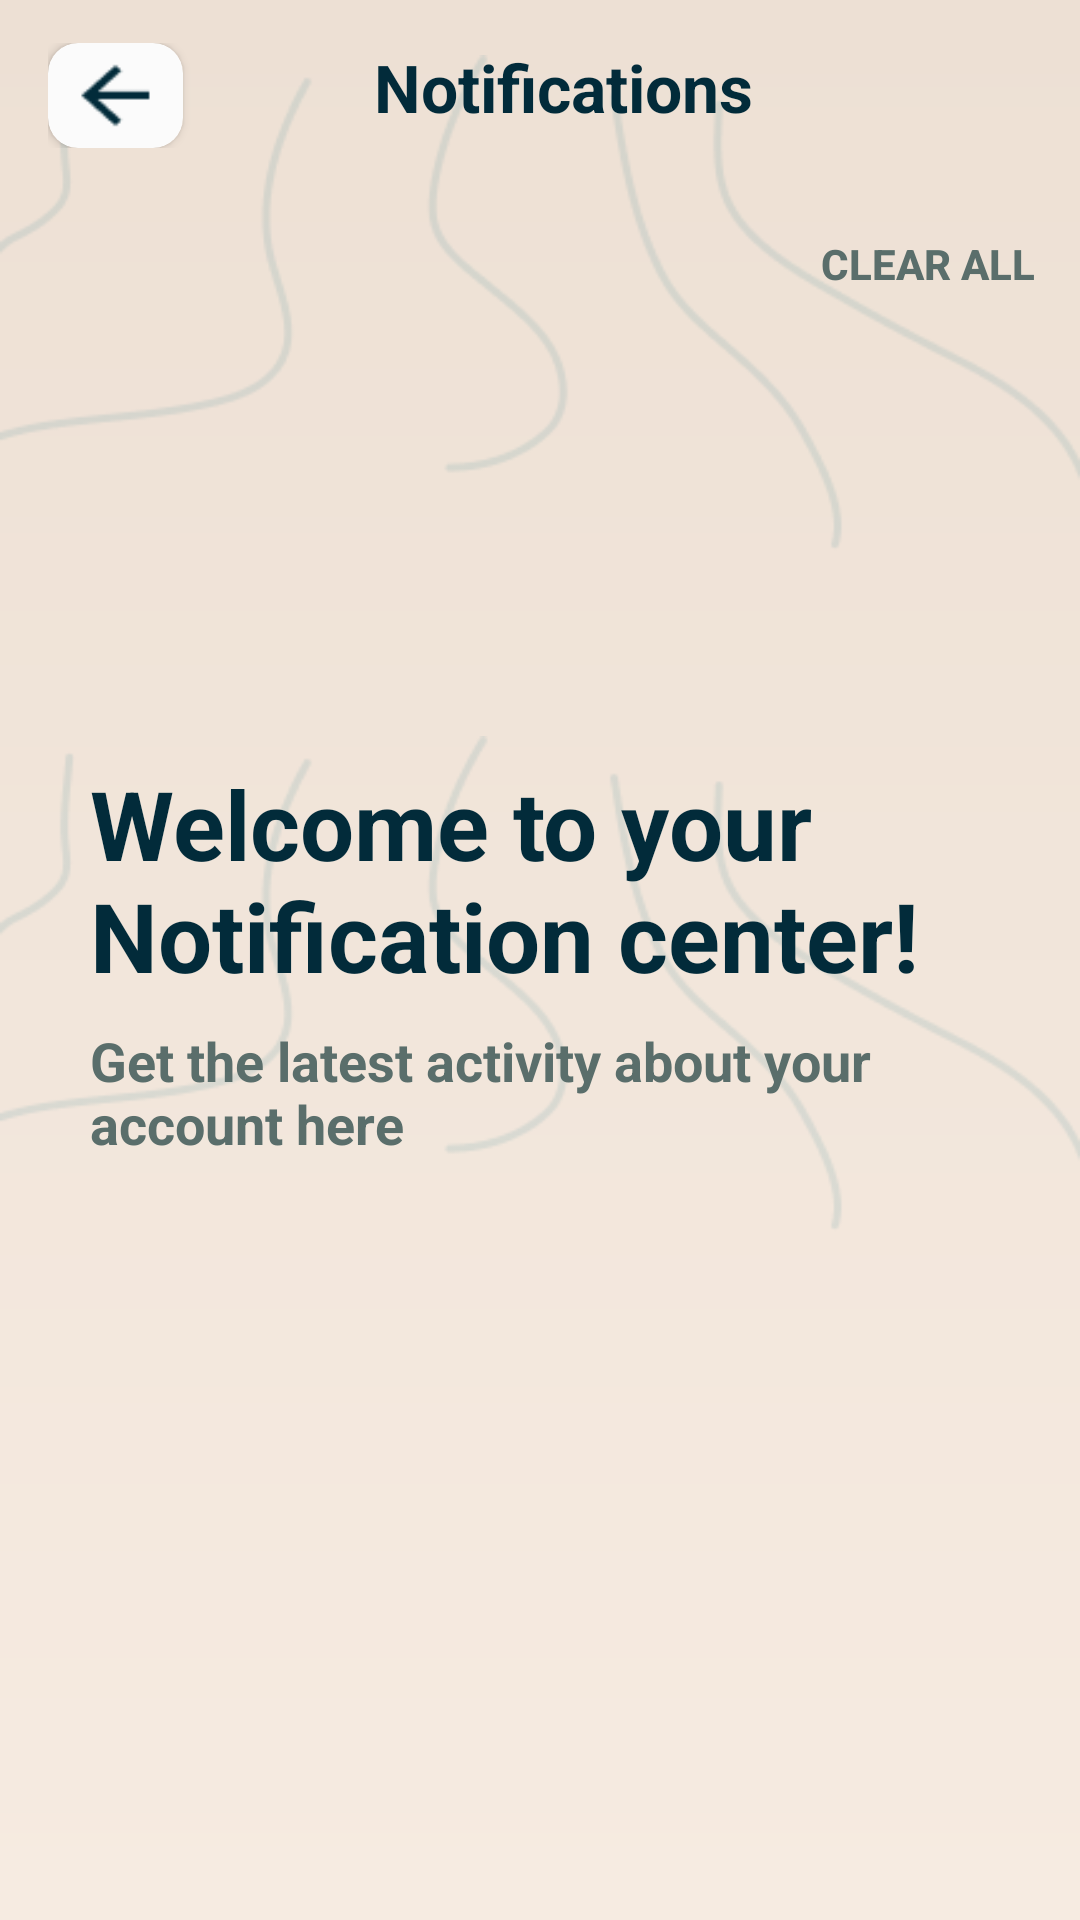

Named icons in this screenshot (1080px x 1920px) and their centers, (x=x, y=y):
arrow: (x=115, y=95)
